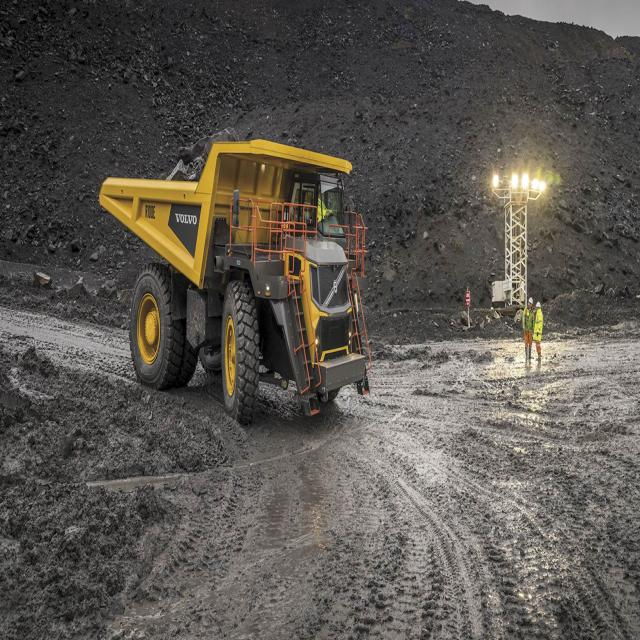dump_truck: (100, 127, 392, 435)
